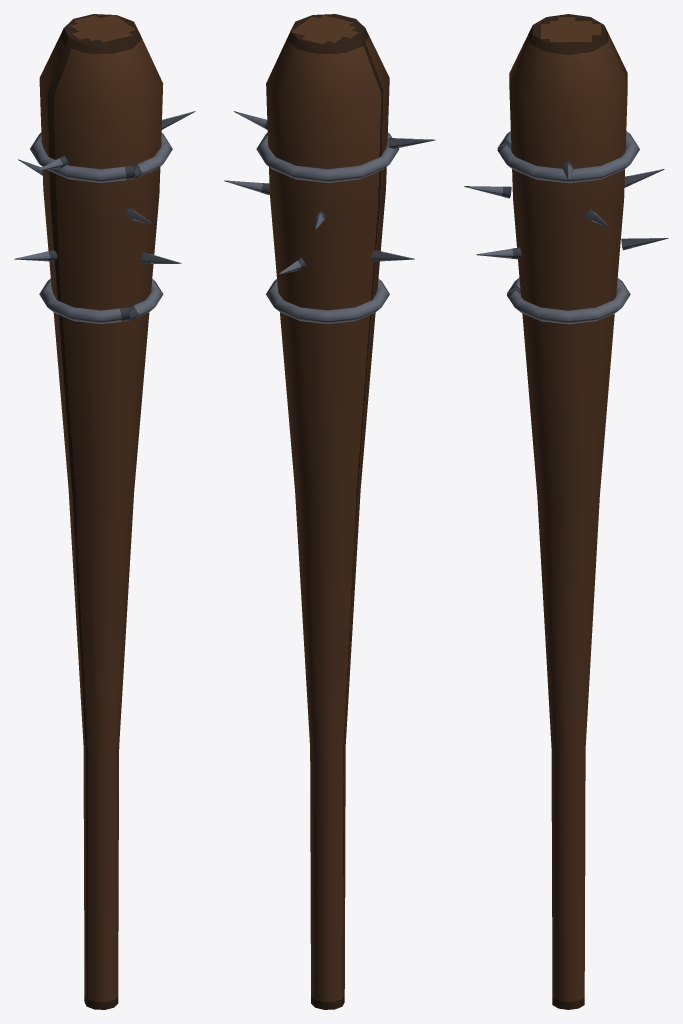
The model's file is ogre_club.glb.
3 renders of one model, left to right at view 1: azimuth 30°, elevation 25°; view 2: azimuth 150°, elevation 25°; view 3: azimuth 270°, elevation 25°, orthographic.
Parts seen in each view (by area): view 1: ogre_club; view 2: ogre_club; view 3: ogre_club.
Boxes of the visible parts, x1,y1,x2,y2 form: ogre_club: (14,14,195,1009); ogre_club: (224,14,435,1009); ogre_club: (464,14,668,1009).
Size of the model in its own units: 0.2216 by 1.14 by 0.2172.
1 material, 1 textured.
